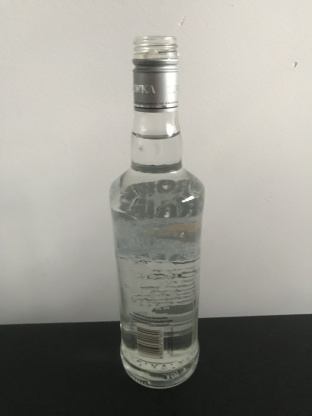nakretka: (130, 33, 180, 114)
